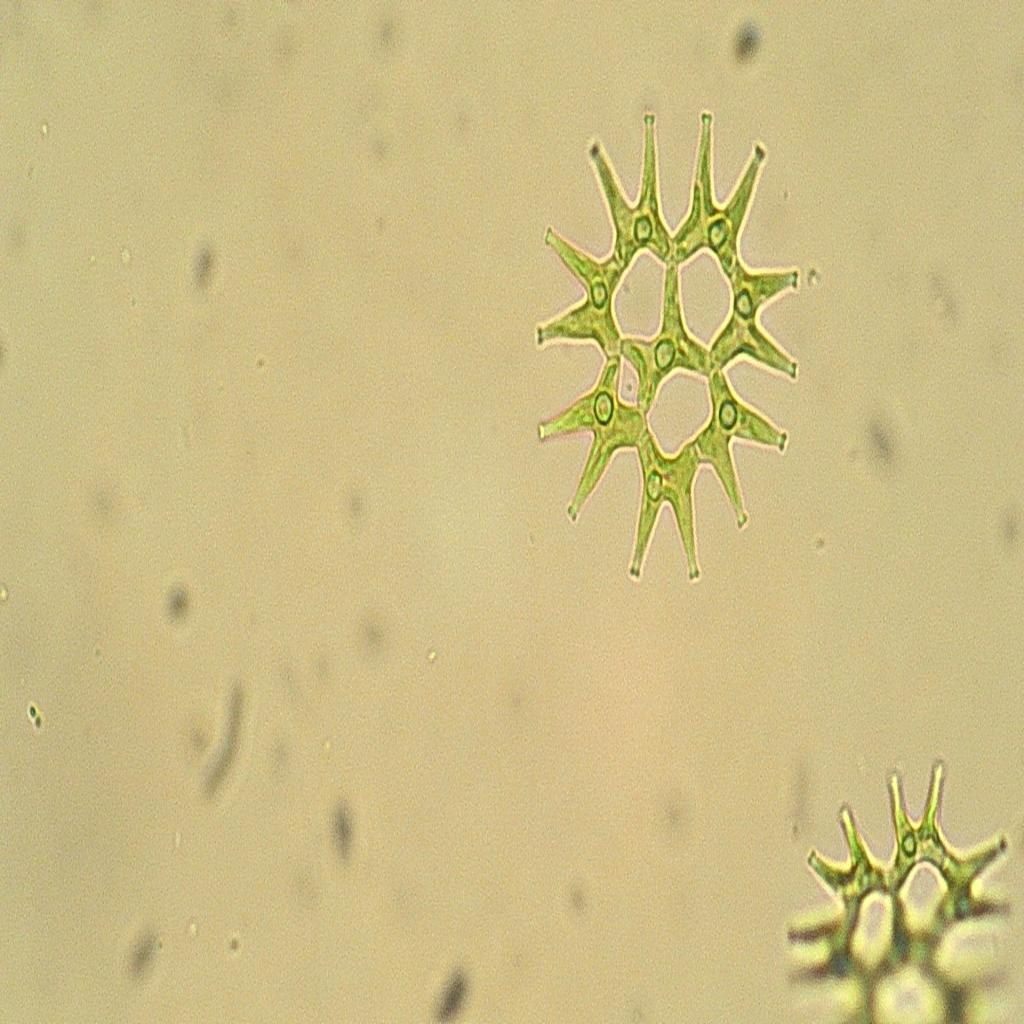Pediastrum_75T: (522, 90, 824, 596)
